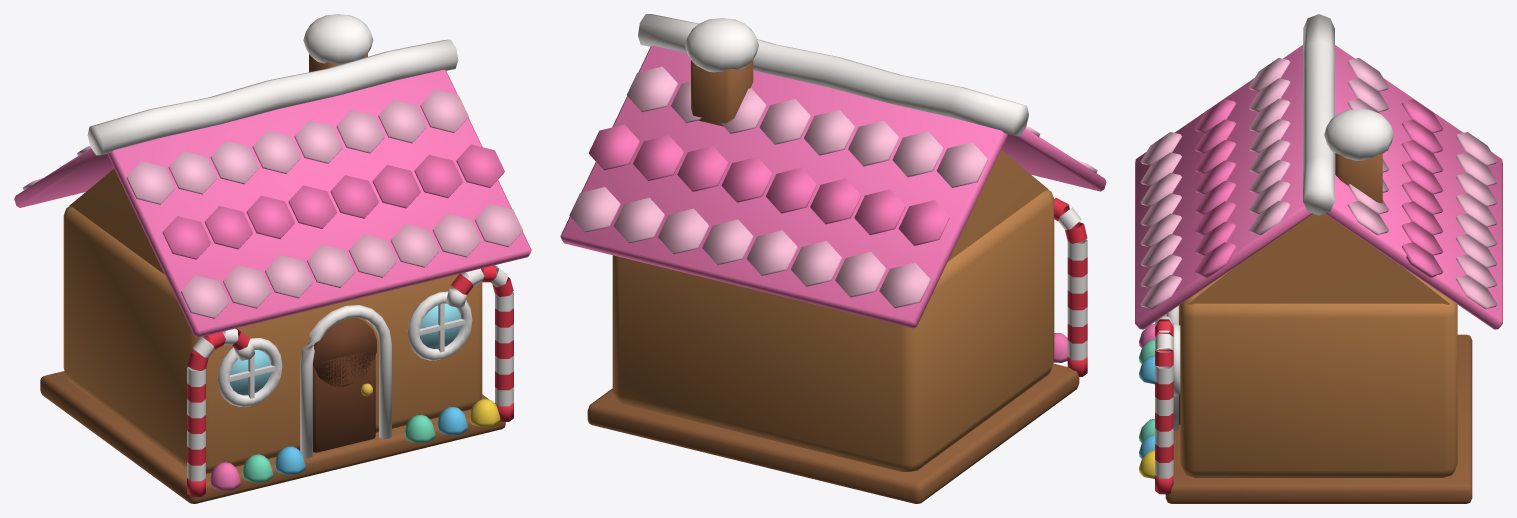
The model's file is candy_house.glb.
3 renders of one model, left to right at view 1: azimuth 30°, elevation 25°; view 2: azimuth 150°, elevation 25°; view 3: azimuth 270°, elevation 25°, orthographic. The views are drawn at different scales.
Parts seen in each view (by area): view 1: C_House__C_pink_2, C_House__C_ginger_8, C_House__C_trim_pink_5, C_House__C_white_5, C_House__C_choc_8, C_House__C_choc_2, C_House__C_white_2, C_House__C_red_2, C_House__C_aqua_2, C_House__C_mint_2, C_House__C_sky_2, C_House__C_yel_2; view 2: C_House__C_ginger_8, C_House__C_pink_2, C_House__C_trim_pink_5, C_House__C_choc_8, C_House__C_white_5, C_House__C_red_2, C_House__C_white_2; view 3: C_House__C_ginger_8, C_House__C_pink_2, C_House__C_trim_pink_5, C_House__C_choc_8, C_House__C_white_5, C_House__C_red_2, C_House__C_white_2, C_House__C_sky_2, C_House__C_mint_2.
Boxes of the visible parts, bbox=[...] form: C_House__C_pink_2: bbox=[14, 69, 531, 490]; C_House__C_ginger_8: bbox=[63, 168, 482, 473]; C_House__C_trim_pink_5: bbox=[23, 89, 522, 318]; C_House__C_white_5: bbox=[87, 14, 472, 458]; C_House__C_choc_8: bbox=[40, 53, 505, 503]; C_House__C_choc_2: bbox=[313, 318, 376, 452]; C_House__C_white_2: bbox=[187, 265, 513, 481]; C_House__C_red_2: bbox=[187, 265, 513, 496]; C_House__C_aqua_2: bbox=[230, 303, 461, 395]; C_House__C_mint_2: bbox=[242, 414, 435, 482]; C_House__C_sky_2: bbox=[275, 407, 467, 474]; C_House__C_yel_2: bbox=[469, 399, 500, 427]; C_House__C_ginger_8: bbox=[612, 150, 1054, 471]; C_House__C_pink_2: bbox=[560, 45, 1106, 362]; C_House__C_trim_pink_5: bbox=[569, 66, 1097, 308]; C_House__C_choc_8: bbox=[587, 60, 1079, 503]; C_House__C_white_5: bbox=[638, 14, 1028, 135]; C_House__C_red_2: bbox=[1054, 198, 1087, 376]; C_House__C_white_2: bbox=[1058, 207, 1087, 360]; C_House__C_ginger_8: bbox=[1180, 213, 1457, 477]; C_House__C_pink_2: bbox=[1135, 45, 1502, 347]; C_House__C_trim_pink_5: bbox=[1140, 58, 1497, 309]; C_House__C_choc_8: bbox=[1165, 153, 1472, 503]; C_House__C_white_5: bbox=[1166, 14, 1393, 430]; C_House__C_red_2: bbox=[1155, 319, 1173, 494]; C_House__C_white_2: bbox=[1155, 314, 1173, 478]; C_House__C_sky_2: bbox=[1139, 355, 1154, 458]; C_House__C_mint_2: bbox=[1139, 339, 1154, 442].
Size of the model in its own units: 5.62 by 5.42 by 5.04.
